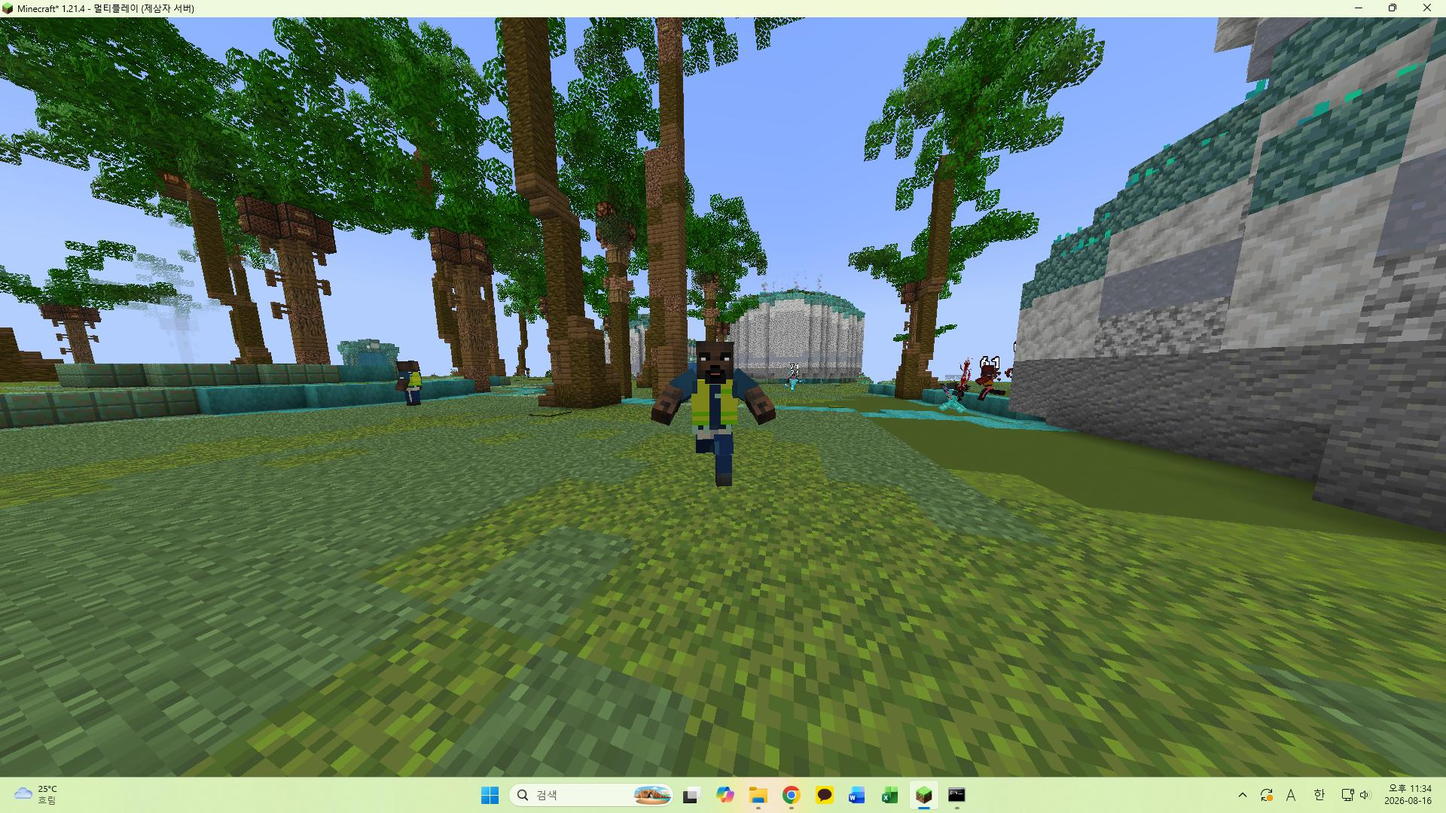Guardian: (652, 342, 776, 486), (394, 360, 422, 405), (975, 356, 999, 402)
